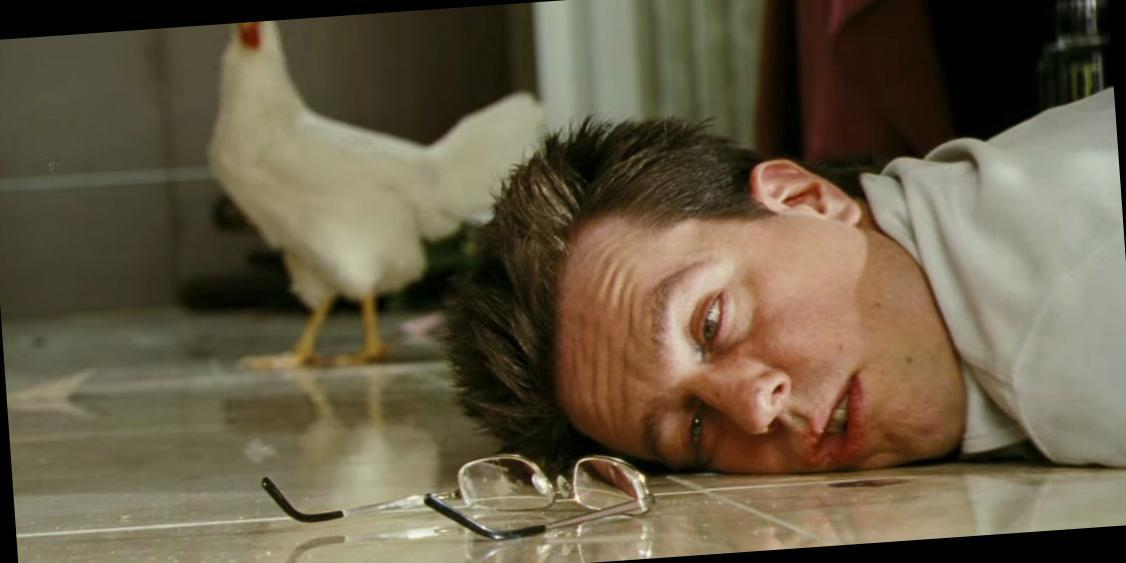Drunk: (564, 223, 940, 471)
